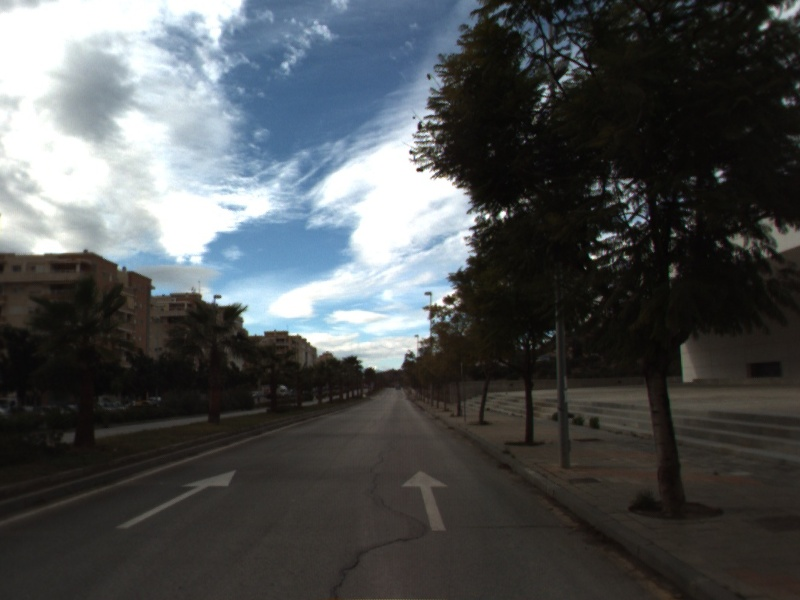STRAIGHT: (114, 468, 238, 531), (399, 468, 451, 533)
